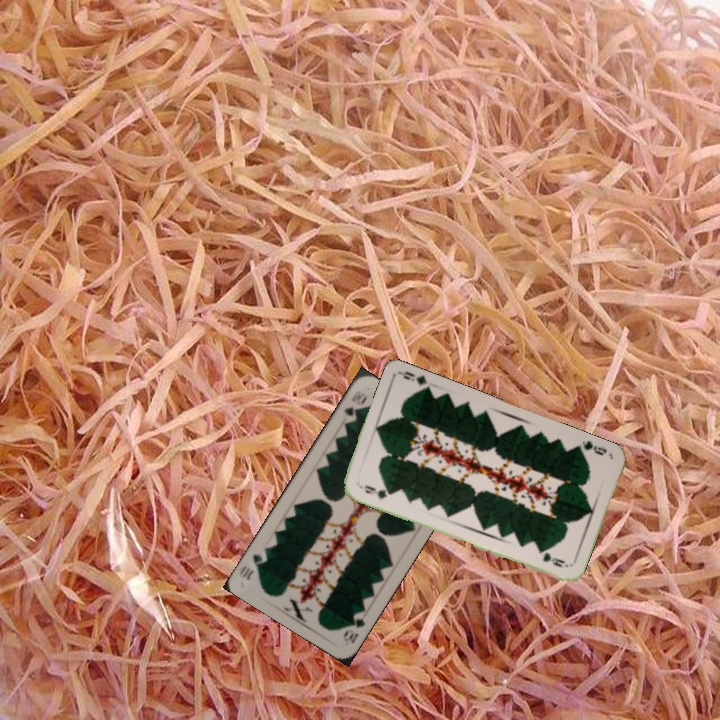G10: (339, 610, 369, 646), (340, 386, 367, 419)
G9: (356, 481, 394, 502), (578, 437, 609, 458)
